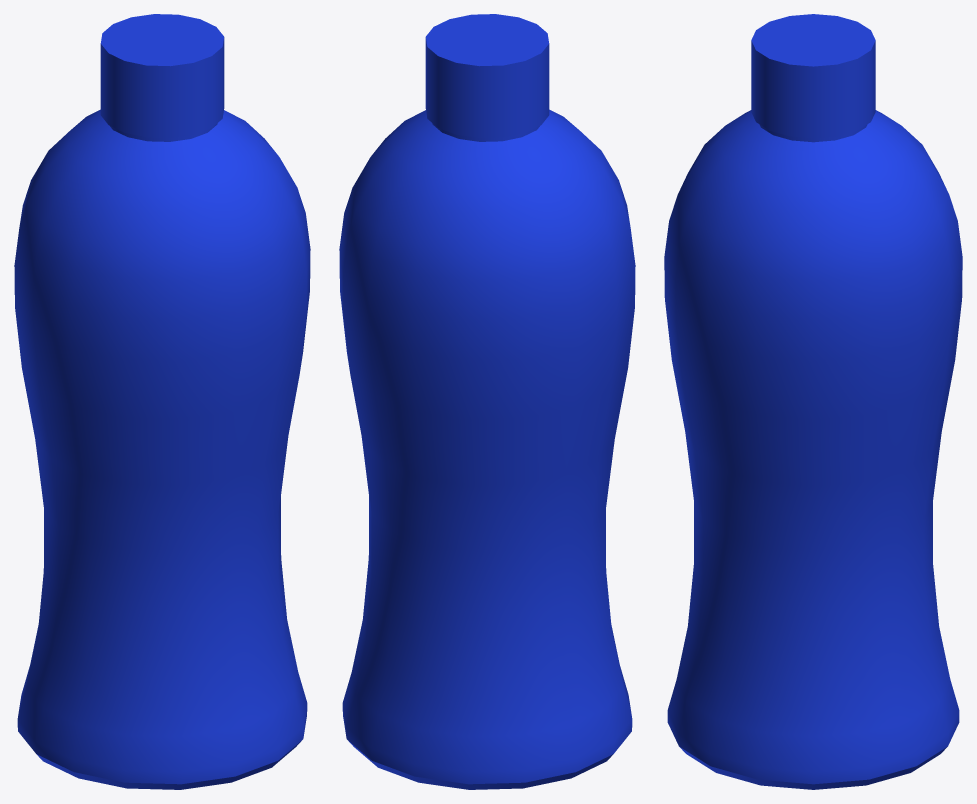
The model's file is Bottle.fbx.
3 views of the same model, side by side, from view 1: azimuth 30°, elevation 25°; view 2: azimuth 150°, elevation 25°; view 3: azimuth 270°, elevation 25° (orthographic).
Visible parts, largest first — view 1: Circle; view 2: Circle; view 3: Circle.
Part boxes in pixels (x1,y1,x2,y2): Circle: (14, 14, 310, 789); Circle: (339, 14, 635, 789); Circle: (664, 14, 962, 789).
Size of the model in its own units: 30.53 by 78.44 by 30.53.
